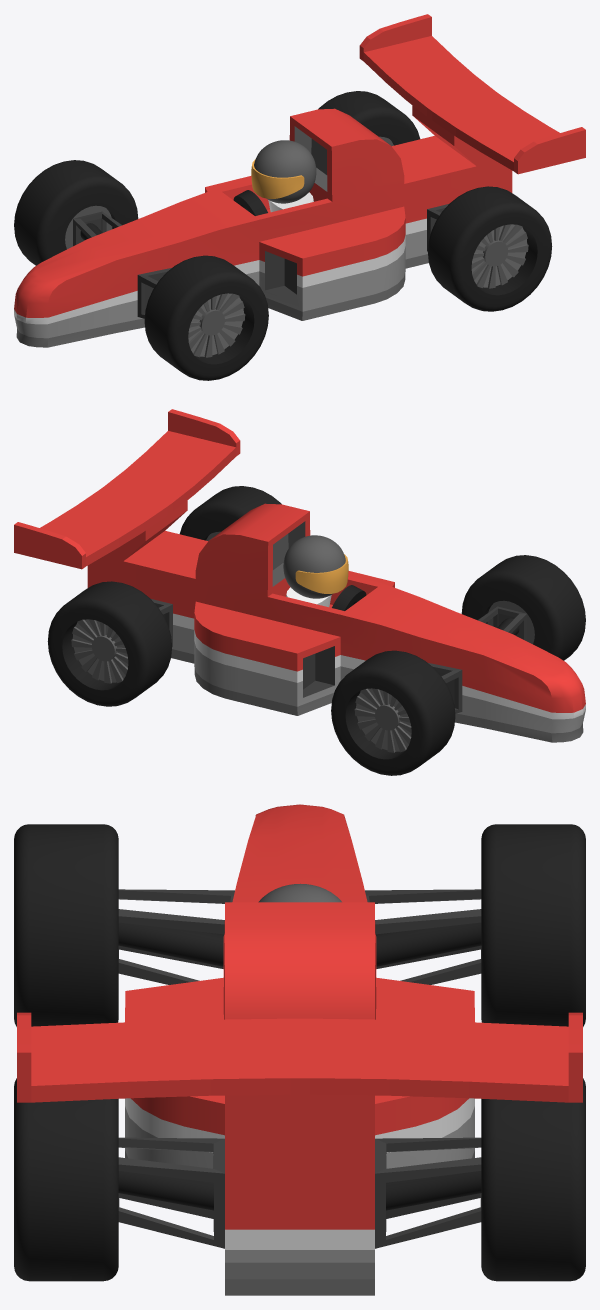
Rendered from racing_car.fbx.
The picture shows the model from 3 angles, top to bottom: view 1: azimuth 30°, elevation 25°; view 2: azimuth 150°, elevation 25°; view 3: azimuth 270°, elevation 25°; orthographic projection. The views are drawn at different scales.
Visible parts, largest first — view 1: Cube.723; view 2: Cube.723; view 3: Cube.723.
Part boxes in pixels (<box>): Cube.723: <box>14,14,585,380</box>; Cube.723: <box>14,409,585,775</box>; Cube.723: <box>14,804,585,1295</box>.
Bounding box in the file's own units: 232 × 73.52 × 131.
1 material, 1 textured.
